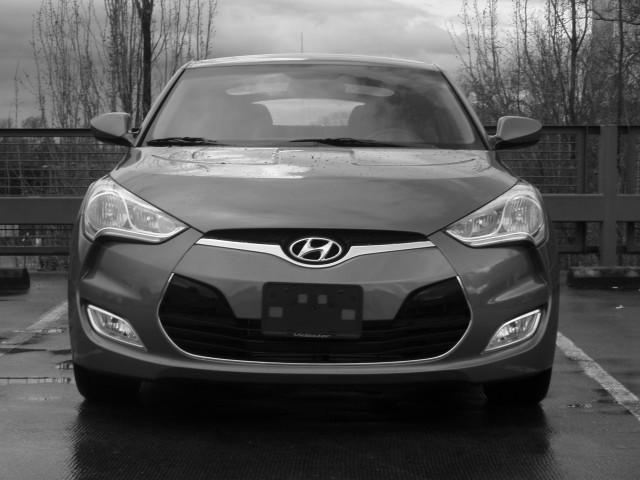car: (67, 57, 560, 411)
